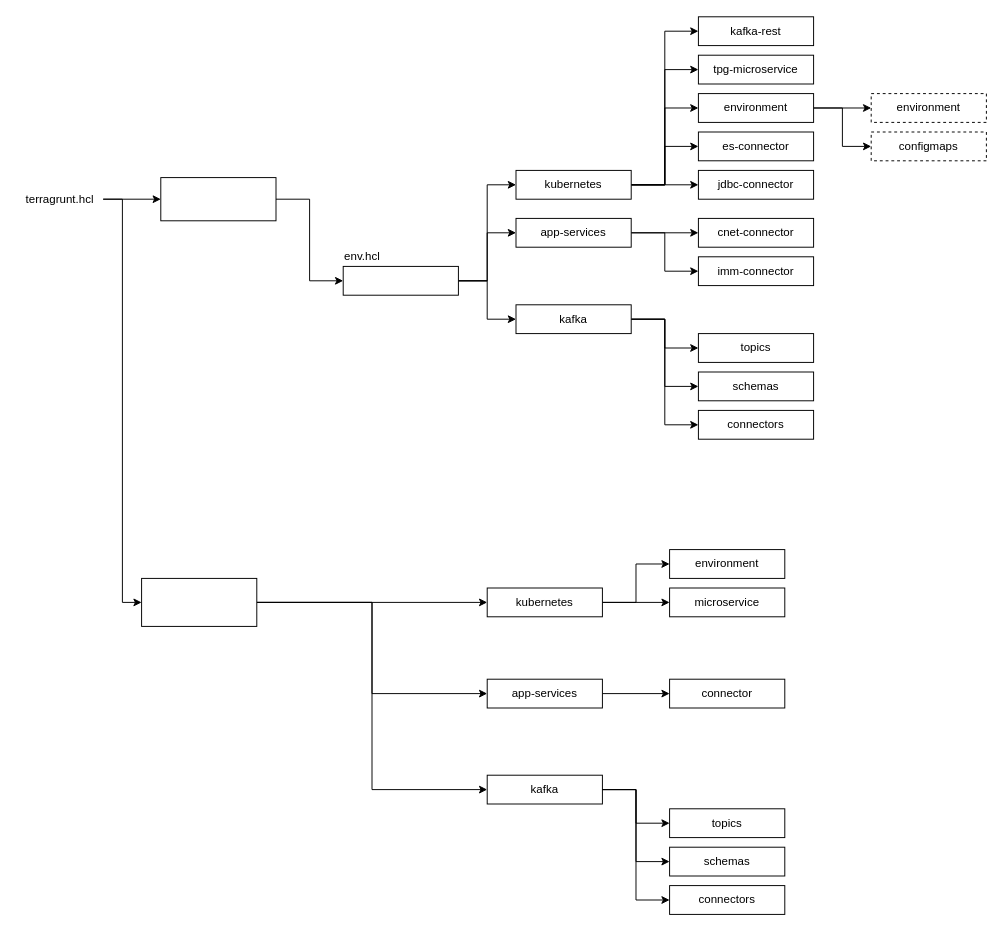
Image size: 1003x931. Some labels were removed from this diagram. Here are the shapes that lost their labels. From the top down, the centre of each, then its label:
(218,199): environments (configurations)
(400,280): dev
(199,601): modules (infrastructure)
